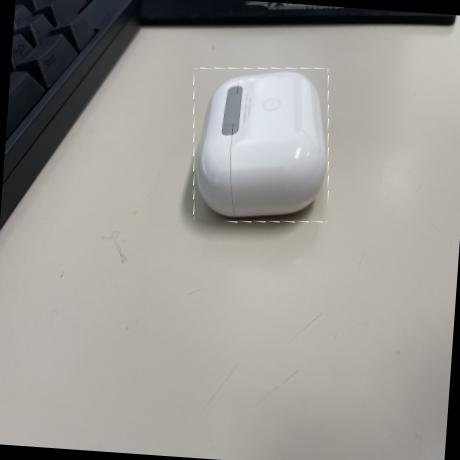airpod3: (187, 62, 336, 228)
